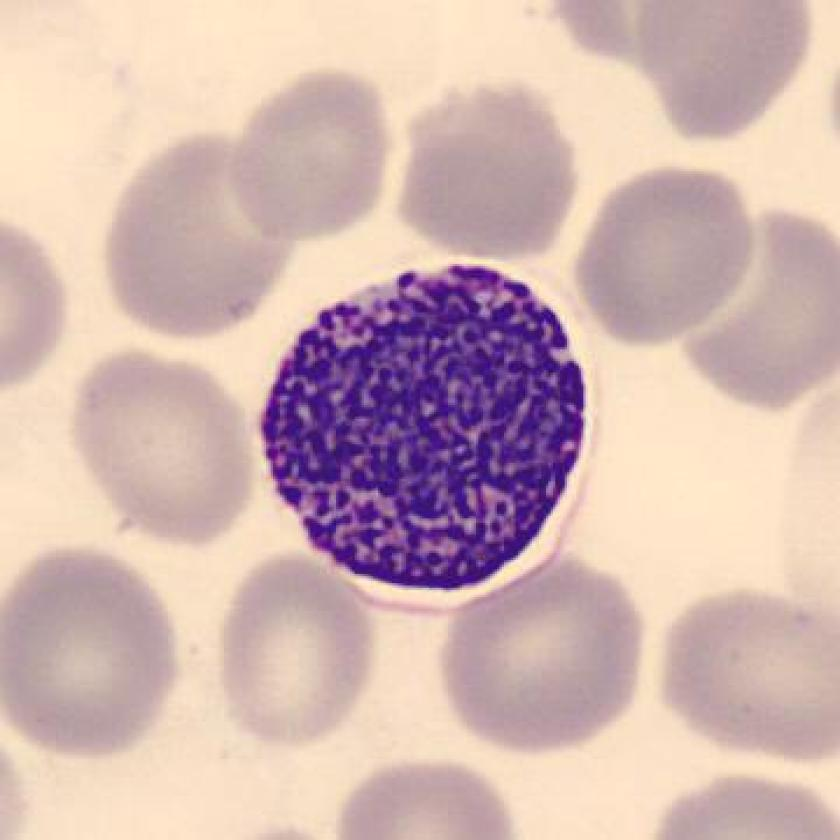basophil: (258, 258, 598, 605)
